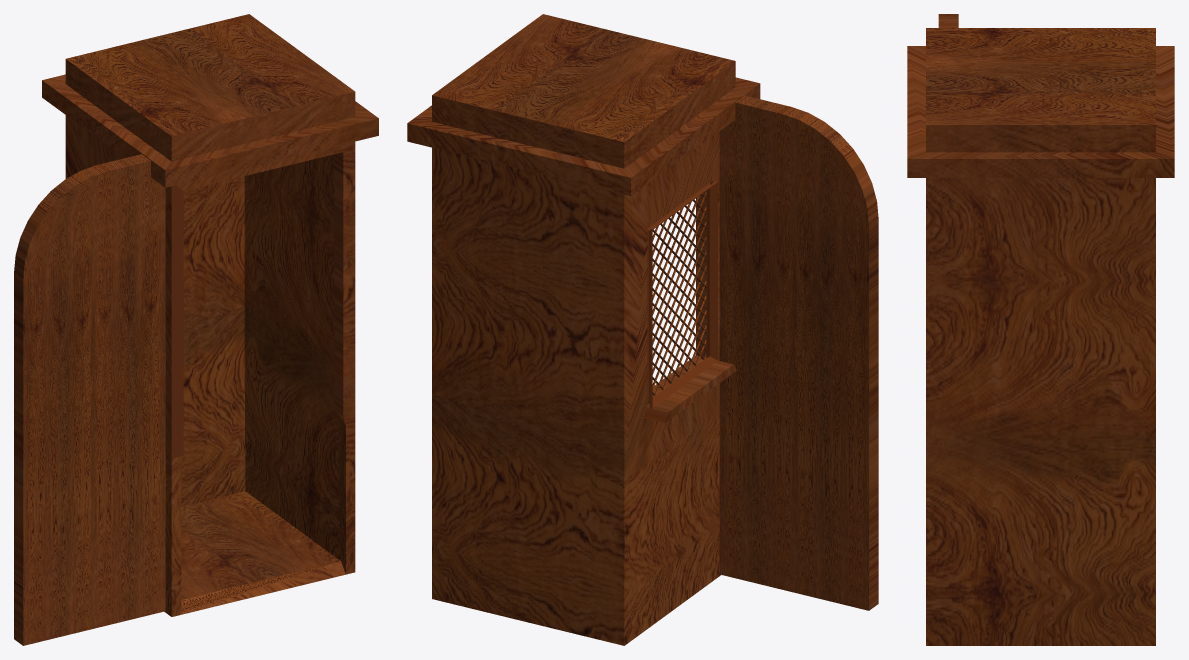
The model's file is confessional.glb.
The picture shows the model from 3 angles, left to right: view 1: azimuth 30°, elevation 25°; view 2: azimuth 150°, elevation 25°; view 3: azimuth 270°, elevation 25°; orthographic projection. The views are drawn at different scales.
Visible parts, largest first — view 1: Cabin, Side; view 2: Cabin, Side, Plane, Cabin.001; view 3: Cabin.
Boxes of the visible parts, x1,y1,x2,y2 form: Cabin: [42, 14, 378, 616]; Side: [14, 150, 165, 645]; Cabin: [407, 14, 760, 645]; Side: [719, 92, 878, 610]; Plane: [652, 192, 706, 395]; Cabin.001: [647, 180, 717, 409]; Cabin: [907, 28, 1174, 645].
Size of what is drawn, in the model's own units: 2.65 by 3.57 by 1.66.
Materials: 1 (1 with a texture image).
